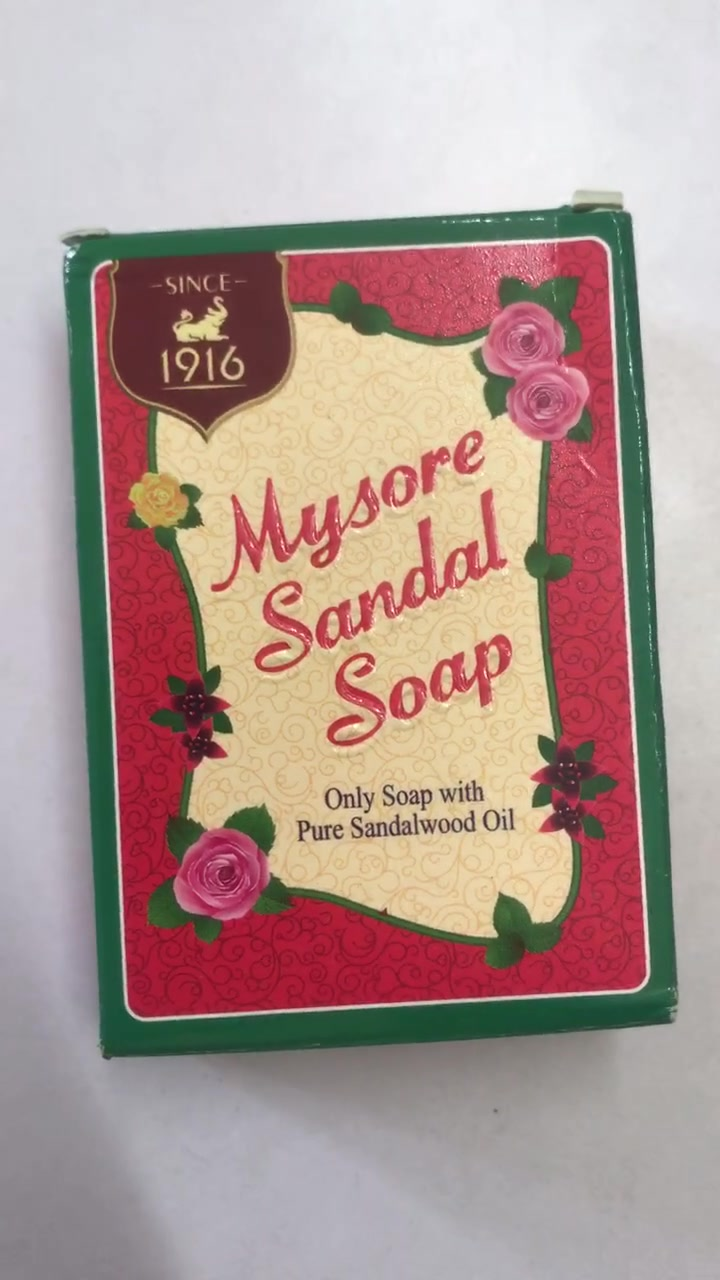mysore sandal soap: (66, 207, 681, 1053)
